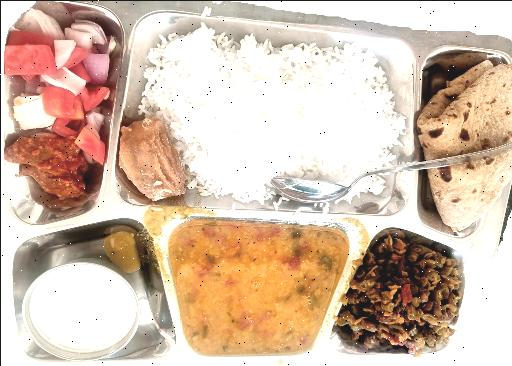Curd: (10, 256, 140, 361)
Dal: (181, 225, 336, 351)
Pickle: (2, 132, 90, 214)
Rice: (144, 34, 396, 203)
Roti: (417, 51, 512, 228)
Salad: (2, 8, 113, 126)
Sweet: (118, 113, 184, 201)
Vegetable: (338, 240, 463, 360)
